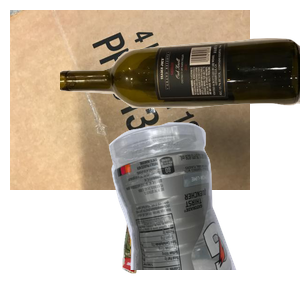cardboard: (10, 10, 250, 190)
glass: (60, 36, 300, 147)
plastic: (106, 120, 300, 300)
trash: (120, 131, 290, 300)
